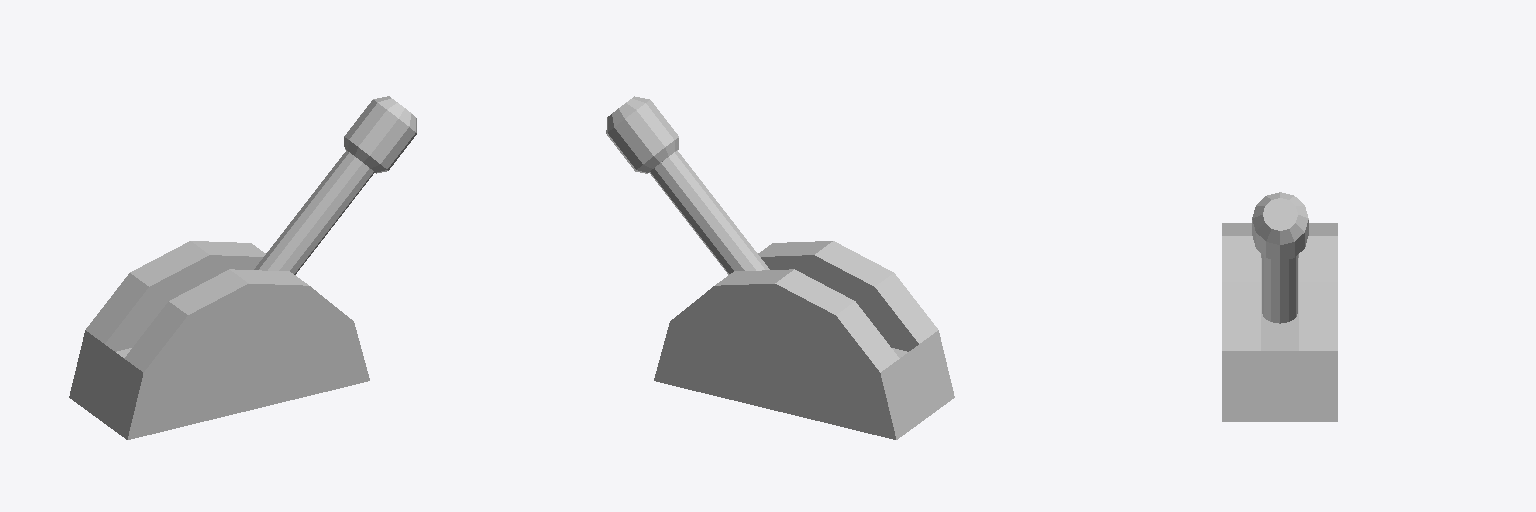
Rendered from switch.obj.
The picture shows the model from 3 angles: view 1: azimuth 30°, elevation 25°; view 2: azimuth 150°, elevation 25°; view 3: azimuth 270°, elevation 25°; orthographic projection.
Visible parts, largest first — view 1: Cylinder, Cylinder.001, Cylinder.002; view 2: Cylinder, Cylinder.001, Cylinder.002; view 3: Cylinder, Cylinder.002, Cylinder.001.
Boxes of the visible parts, box(x1,y1,x2,y2) form: Cylinder: box(69, 241, 369, 439); Cylinder.001: box(254, 150, 374, 274); Cylinder.002: box(344, 96, 416, 173); Cylinder: box(654, 241, 954, 439); Cylinder.001: box(649, 150, 769, 274); Cylinder.002: box(606, 96, 678, 173); Cylinder: box(1222, 223, 1337, 421); Cylinder.002: box(1252, 192, 1308, 261); Cylinder.001: box(1262, 254, 1297, 323).
Bounding box in the file's own units: 1.24 × 0.9334 × 0.3964.